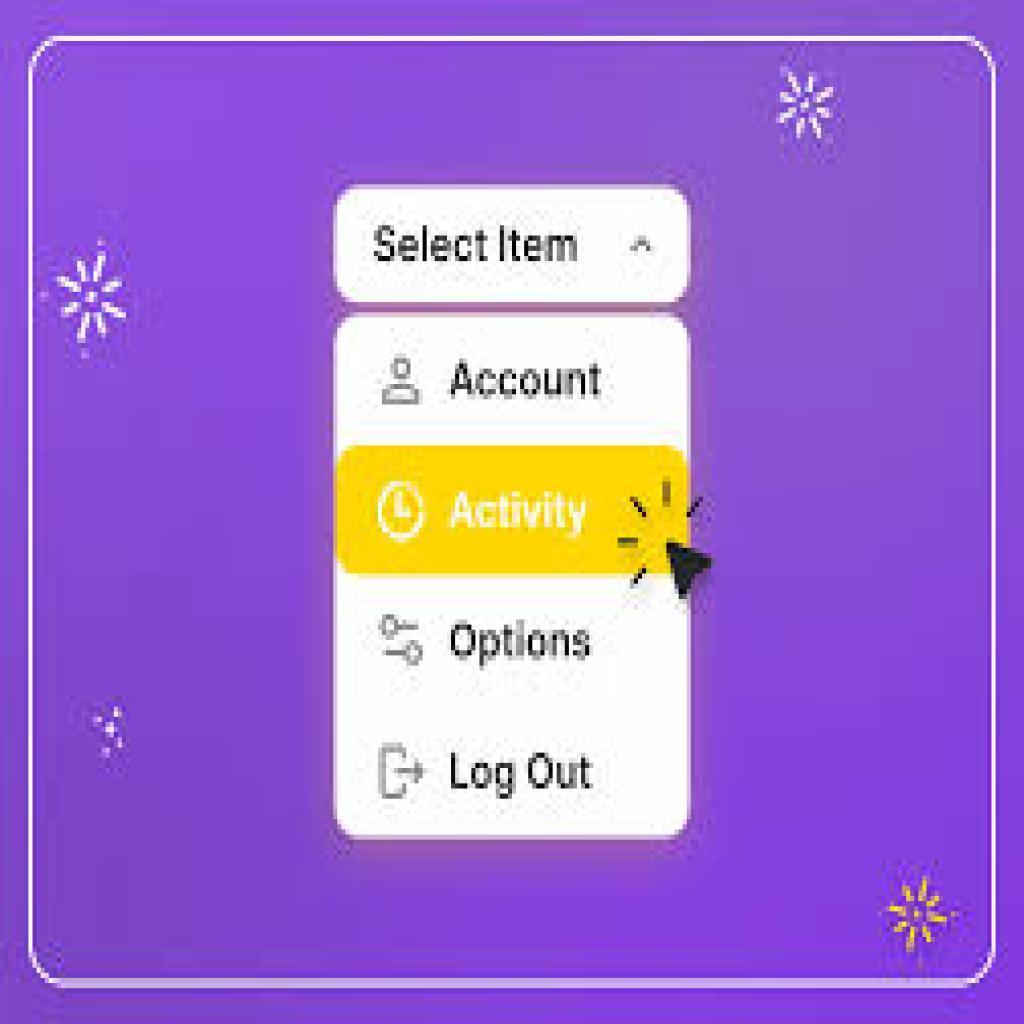dropdown: (334, 186, 694, 305)
icon: (370, 592, 433, 681), (374, 466, 433, 556), (369, 732, 429, 807), (375, 343, 431, 414)
label: (449, 613, 601, 674), (442, 741, 598, 799), (453, 351, 604, 407), (451, 487, 598, 543)
